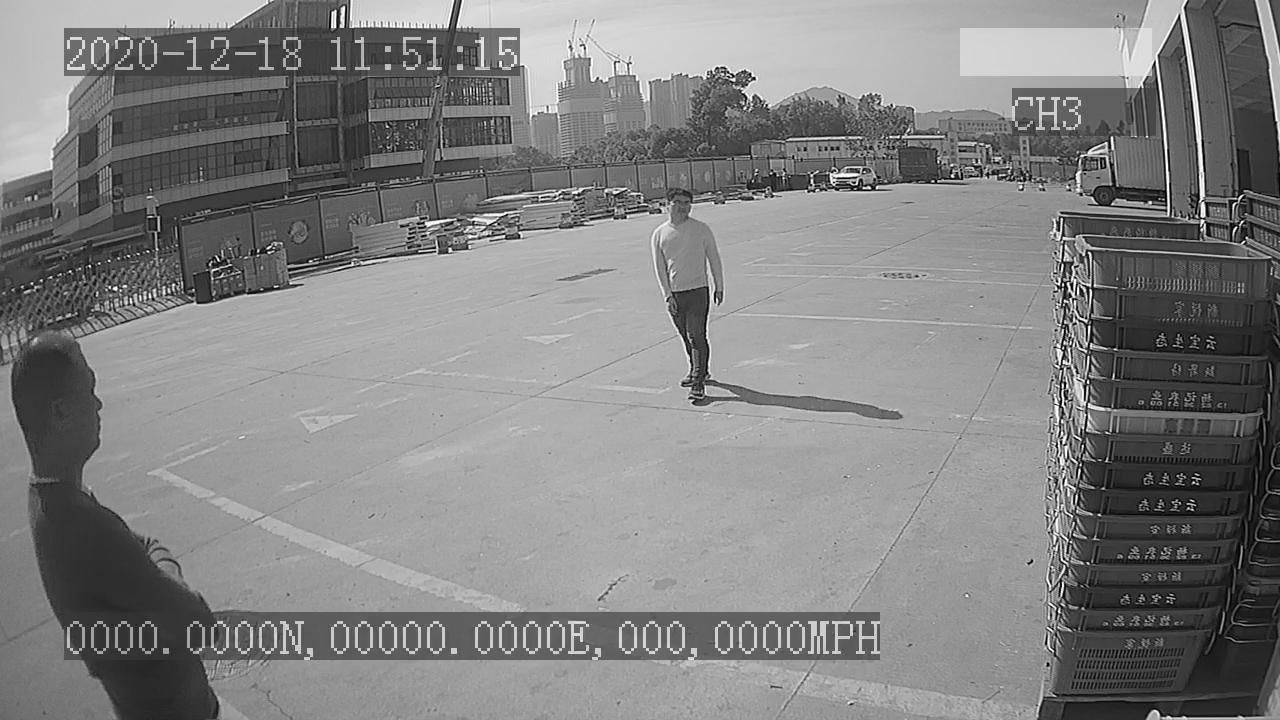person: (643, 186, 727, 406)
